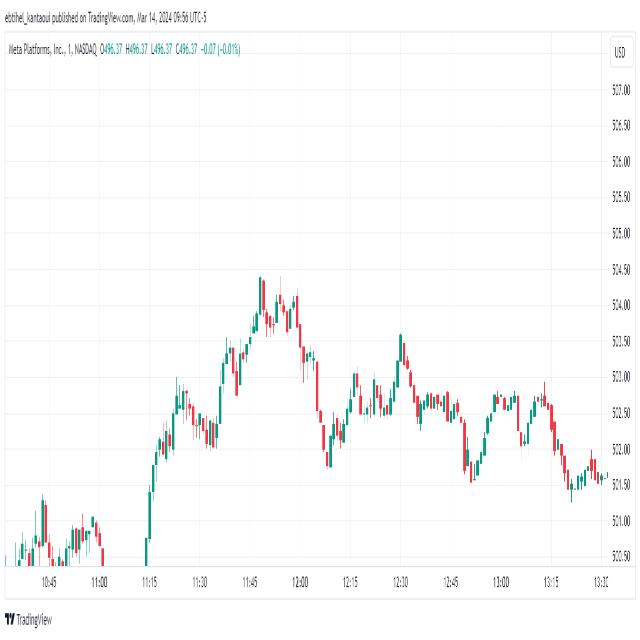Triple-Top: (251, 262, 305, 339)
